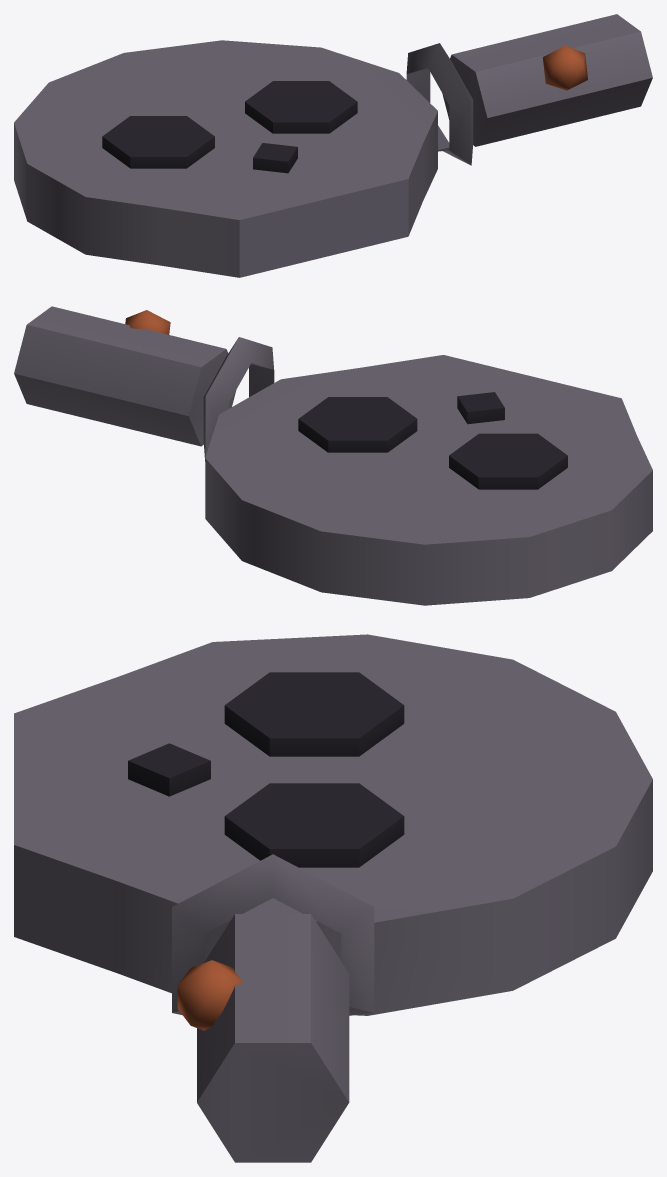
The model's file is curio_keyBow.glb.
3 views of the same model, one above another, from view 1: azimuth 30°, elevation 25°; view 2: azimuth 150°, elevation 25°; view 3: azimuth 270°, elevation 25° (orthographic). The views are drawn at different scales.
Visible parts, largest first — view 1: curio_keyBow; view 2: curio_keyBow; view 3: curio_keyBow.
Boxes of the visible parts, x1=… form: curio_keyBow: x1=14, y1=14, x2=652, y2=277; curio_keyBow: x1=14, y1=306, x2=652, y2=605; curio_keyBow: x1=14, y1=634, x2=652, y2=1162.
Bounding box in the file's own units: 0.1037 × 0.0185 × 0.0629.
